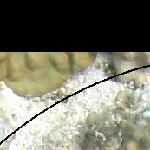alive: (2, 57, 147, 147)
